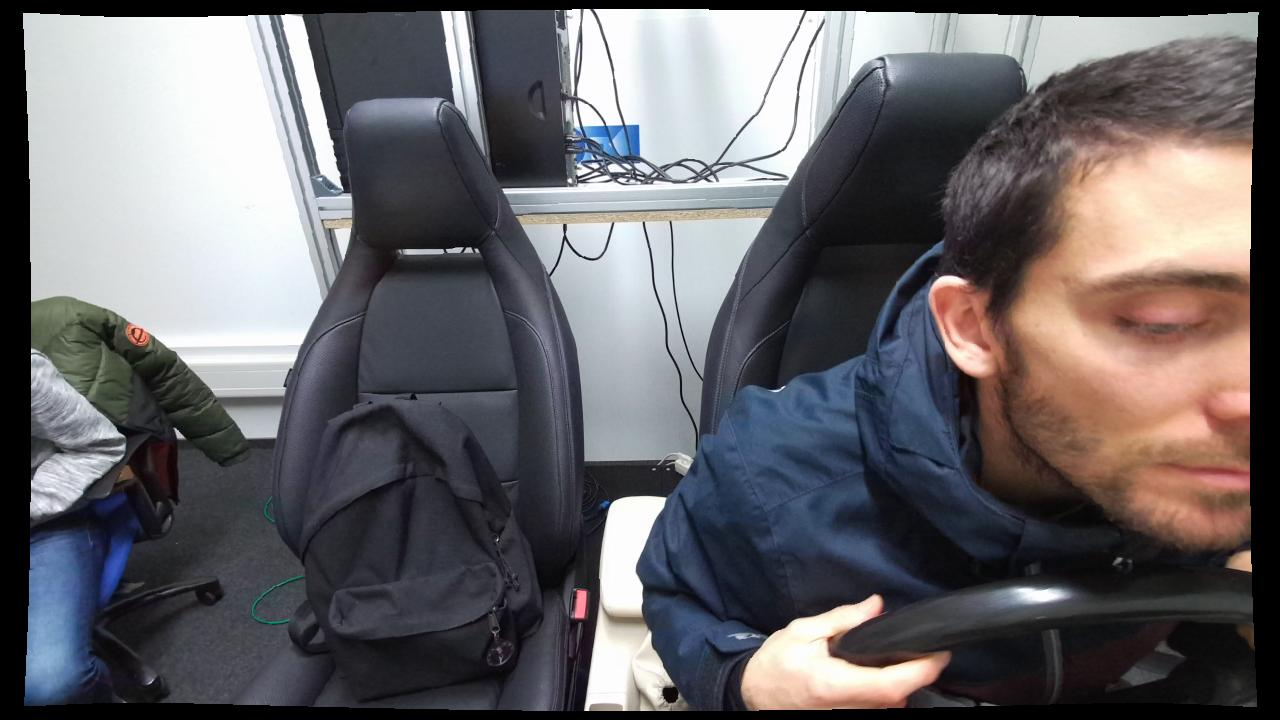Distracted: (638, 37, 1256, 713)
